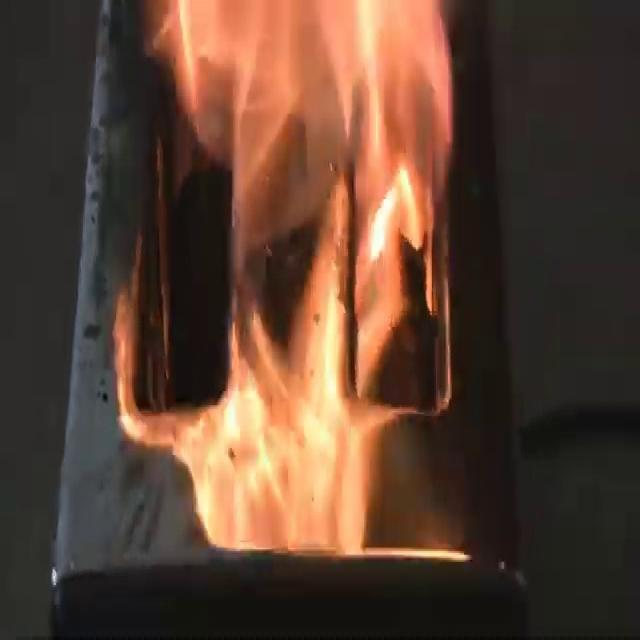fire: (126, 1, 467, 560)
